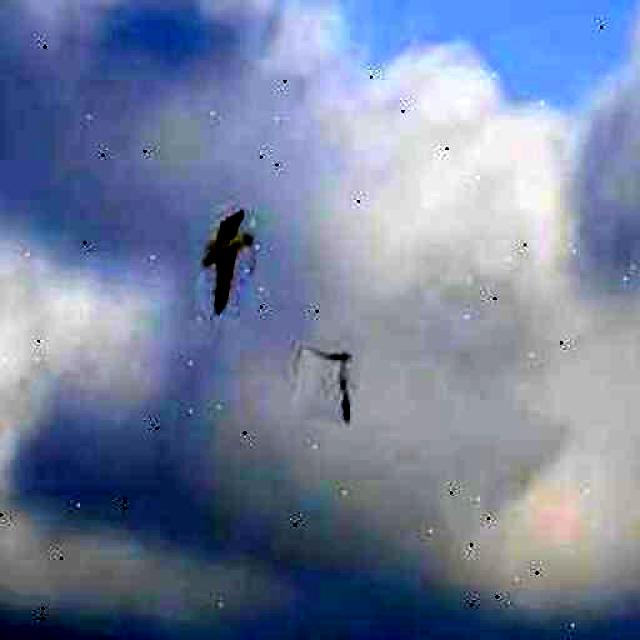airplane: (194, 204, 262, 320), (290, 342, 362, 425)
